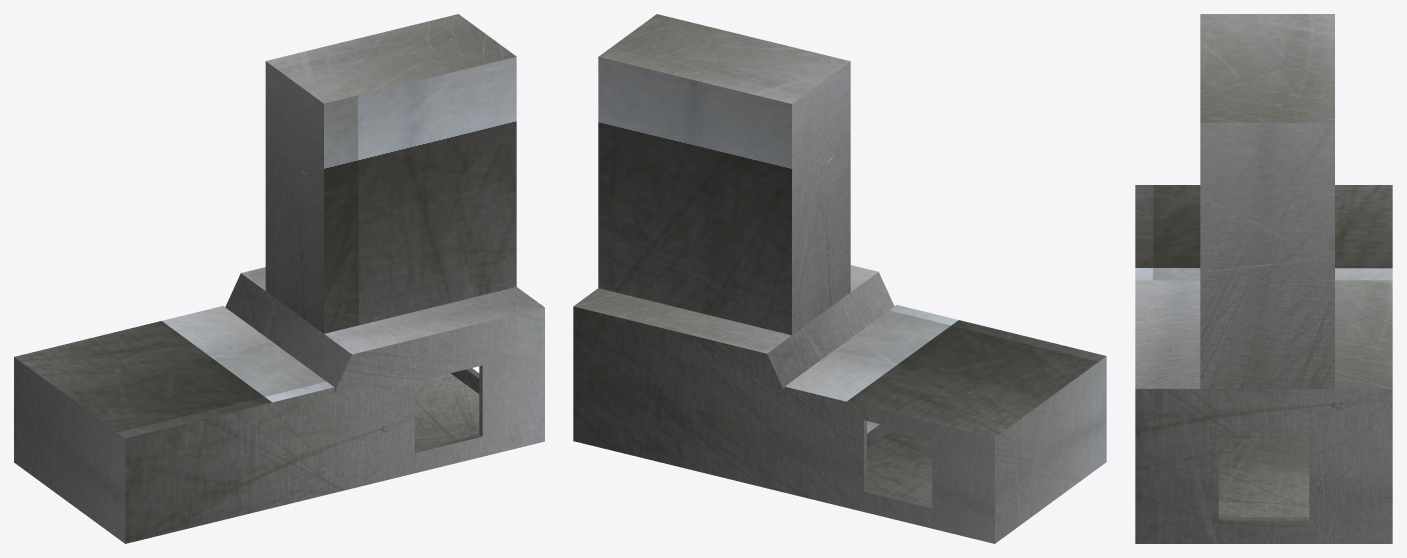
File: module.obj
3 renders of one model, left to right at view 1: azimuth 30°, elevation 25°; view 2: azimuth 150°, elevation 25°; view 3: azimuth 270°, elevation 25°, orthographic. The views are drawn at different scales.
Parts seen in each view (by area): view 1: module_Cube.001; view 2: module_Cube.001; view 3: module_Cube.001.
Boxes of the visible parts, bbox=[...] form: module_Cube.001: bbox=[14, 14, 544, 543]; module_Cube.001: bbox=[573, 14, 1106, 543]; module_Cube.001: bbox=[1135, 14, 1392, 543].
Bounding box in the file's own units: 37 × 30.7 × 17.
